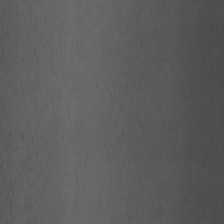silk_spot: (11, 38, 63, 188)
